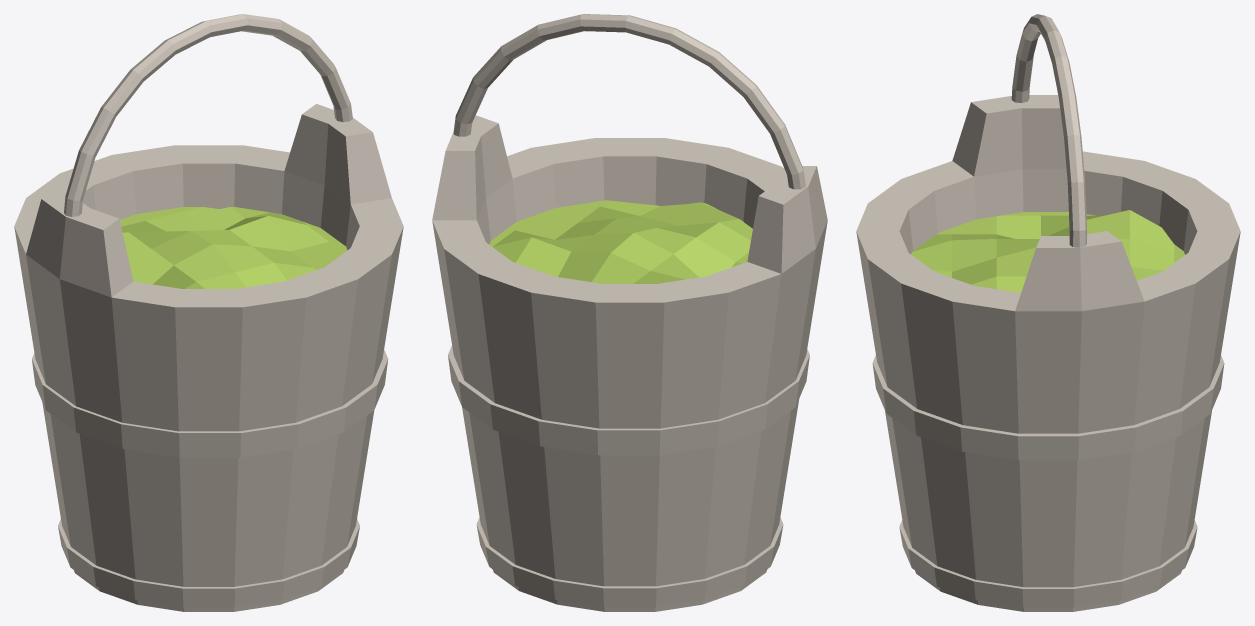
The model's file is cubetita2.fbx.
The picture shows the model from 3 angles, left to right: view 1: azimuth 30°, elevation 25°; view 2: azimuth 150°, elevation 25°; view 3: azimuth 270°, elevation 25°; orthographic projection. The views are drawn at different scales.
Visible parts, largest first — view 1: Cylinder, Cylinder.001, Plane, Torus.003; view 2: Cylinder, Plane, Cylinder.001, Torus.003; view 3: Cylinder, Cylinder.001, Plane, Torus.003.
Part boxes in pixels (x1,y1,x2,y2): Cylinder: (14, 104, 403, 611); Cylinder.001: (32, 349, 388, 607); Plane: (119, 207, 347, 288); Torus.003: (64, 14, 352, 216); Cylinder: (432, 115, 827, 611); Plane: (489, 200, 752, 283); Cylinder.001: (448, 345, 809, 607); Torus.003: (453, 14, 805, 189); Cylinder: (856, 95, 1240, 611); Cylinder.001: (872, 355, 1224, 607); Plane: (911, 210, 1184, 292); Torus.003: (1011, 14, 1086, 248).
Size of the model in its own units: 213 by 325 by 216.
